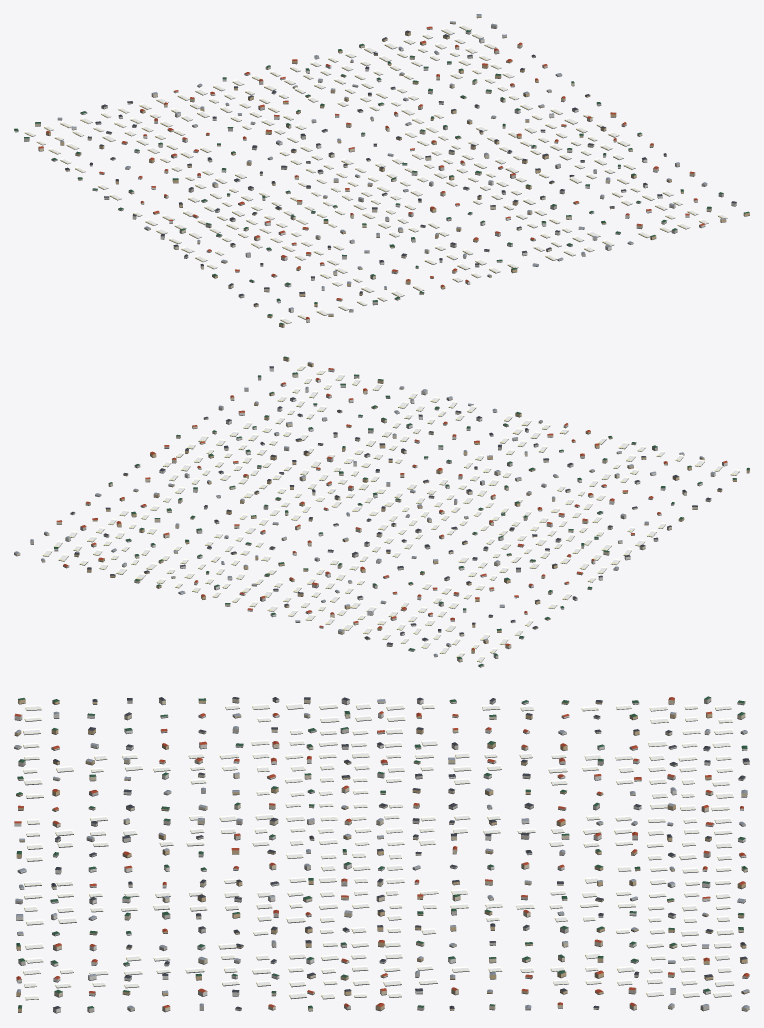
The model's file is buildings_T_E03_N01.glb.
The picture shows the model from 3 angles, top to bottom: view 1: azimuth 30°, elevation 25°; view 2: azimuth 150°, elevation 25°; view 3: azimuth 270°, elevation 25°; orthographic projection. The views are drawn at different scales.
Parts seen in each view (by area): view 1: T_E03_N01_roofs_agri_greenhouse_arch, T_E03_N01_slope_seating_foundations, T_E03_N01_walls_wall_dalat_cream_stucco, T_E03_N01_walls_wall_french_ochre_villa, T_E03_N01_walls_wall_modern_warm_white, T_E03_N01_roofs_roof_slate_French_villa_hip, T_E03_N01_roofs_roof_pine_green_hip, T_E03_N01_walls_wall_pastel_sand_gray, T_E03_N01_roofs_roof_terracotta_gable, T_E03_N01_roofs_roof_zinc_silver_gable; view 2: T_E03_N01_roofs_agri_greenhouse_arch, T_E03_N01_slope_seating_foundations, T_E03_N01_walls_wall_dalat_cream_stucco, T_E03_N01_walls_wall_french_ochre_villa, T_E03_N01_walls_wall_modern_warm_white, T_E03_N01_roofs_roof_slate_French_villa_hip, T_E03_N01_roofs_roof_pine_green_hip, T_E03_N01_walls_wall_pastel_sand_gray, T_E03_N01_roofs_roof_terracotta_gable, T_E03_N01_roofs_roof_zinc_silver_gable; view 3: T_E03_N01_roofs_agri_greenhouse_arch, T_E03_N01_slope_seating_foundations, T_E03_N01_walls_wall_dalat_cream_stucco, T_E03_N01_walls_wall_french_ochre_villa, T_E03_N01_walls_wall_modern_warm_white, T_E03_N01_roofs_roof_slate_French_villa_hip, T_E03_N01_roofs_roof_pine_green_hip, T_E03_N01_walls_wall_pastel_sand_gray, T_E03_N01_roofs_roof_terracotta_gable, T_E03_N01_roofs_roof_zinc_silver_gable.
Part boxes in pixels (<box>): T_E03_N01_roofs_agri_greenhouse_arch: <box>24,24,727,323</box>; T_E03_N01_slope_seating_foundations: <box>14,17,749,327</box>; T_E03_N01_walls_wall_dalat_cream_stucco: <box>14,16,711,311</box>; T_E03_N01_walls_wall_french_ochre_villa: <box>46,22,749,327</box>; T_E03_N01_walls_wall_modern_warm_white: <box>71,31,736,322</box>; T_E03_N01_roofs_roof_slate_French_villa_hip: <box>65,30,736,305</box>; T_E03_N01_roofs_roof_pine_green_hip: <box>14,30,749,324</box>; T_E03_N01_walls_wall_pastel_sand_gray: <box>24,25,723,304</box>; T_E03_N01_roofs_roof_terracotta_gable: <box>39,26,705,319</box>; T_E03_N01_roofs_roof_zinc_silver_gable: <box>57,14,725,314</box>; T_E03_N01_roofs_agri_greenhouse_arch: <box>42,364,739,661</box>; T_E03_N01_slope_seating_foundations: <box>14,360,748,667</box>; T_E03_N01_walls_wall_dalat_cream_stucco: <box>14,373,697,666</box>; T_E03_N01_walls_wall_french_ochre_villa: <box>41,357,749,653</box>; T_E03_N01_walls_wall_modern_warm_white: <box>54,368,727,651</box>; T_E03_N01_roofs_roof_slate_French_villa_hip: <box>70,366,721,644</box>; T_E03_N01_roofs_roof_pine_green_hip: <box>54,356,749,666</box>; T_E03_N01_walls_wall_pastel_sand_gray: <box>30,376,711,658</box>; T_E03_N01_roofs_roof_terracotta_gable: <box>56,368,727,650</box>; T_E03_N01_roofs_roof_zinc_silver_gable: <box>14,362,715,655</box>; T_E03_N01_roofs_agri_greenhouse_arch: <box>23,703,734,999</box>; T_E03_N01_slope_seating_foundations: <box>14,701,749,1013</box>; T_E03_N01_walls_wall_dalat_cream_stucco: <box>14,698,749,1011</box>; T_E03_N01_walls_wall_french_ochre_villa: <box>14,699,749,1012</box>; T_E03_N01_walls_wall_modern_warm_white: <box>14,699,747,1012</box>; T_E03_N01_roofs_roof_slate_French_villa_hip: <box>51,697,749,1009</box>; T_E03_N01_roofs_roof_pine_green_hip: <box>16,696,747,1008</box>; T_E03_N01_walls_wall_pastel_sand_gray: <box>15,698,749,1012</box>; T_E03_N01_roofs_roof_terracotta_gable: <box>14,697,749,1007</box>; T_E03_N01_roofs_roof_zinc_silver_gable: <box>14,699,749,1008</box>.
Bounding box in the file's own units: 1790 × 27.71 × 1791.
